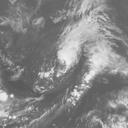cyclone: (55, 32, 98, 75)
